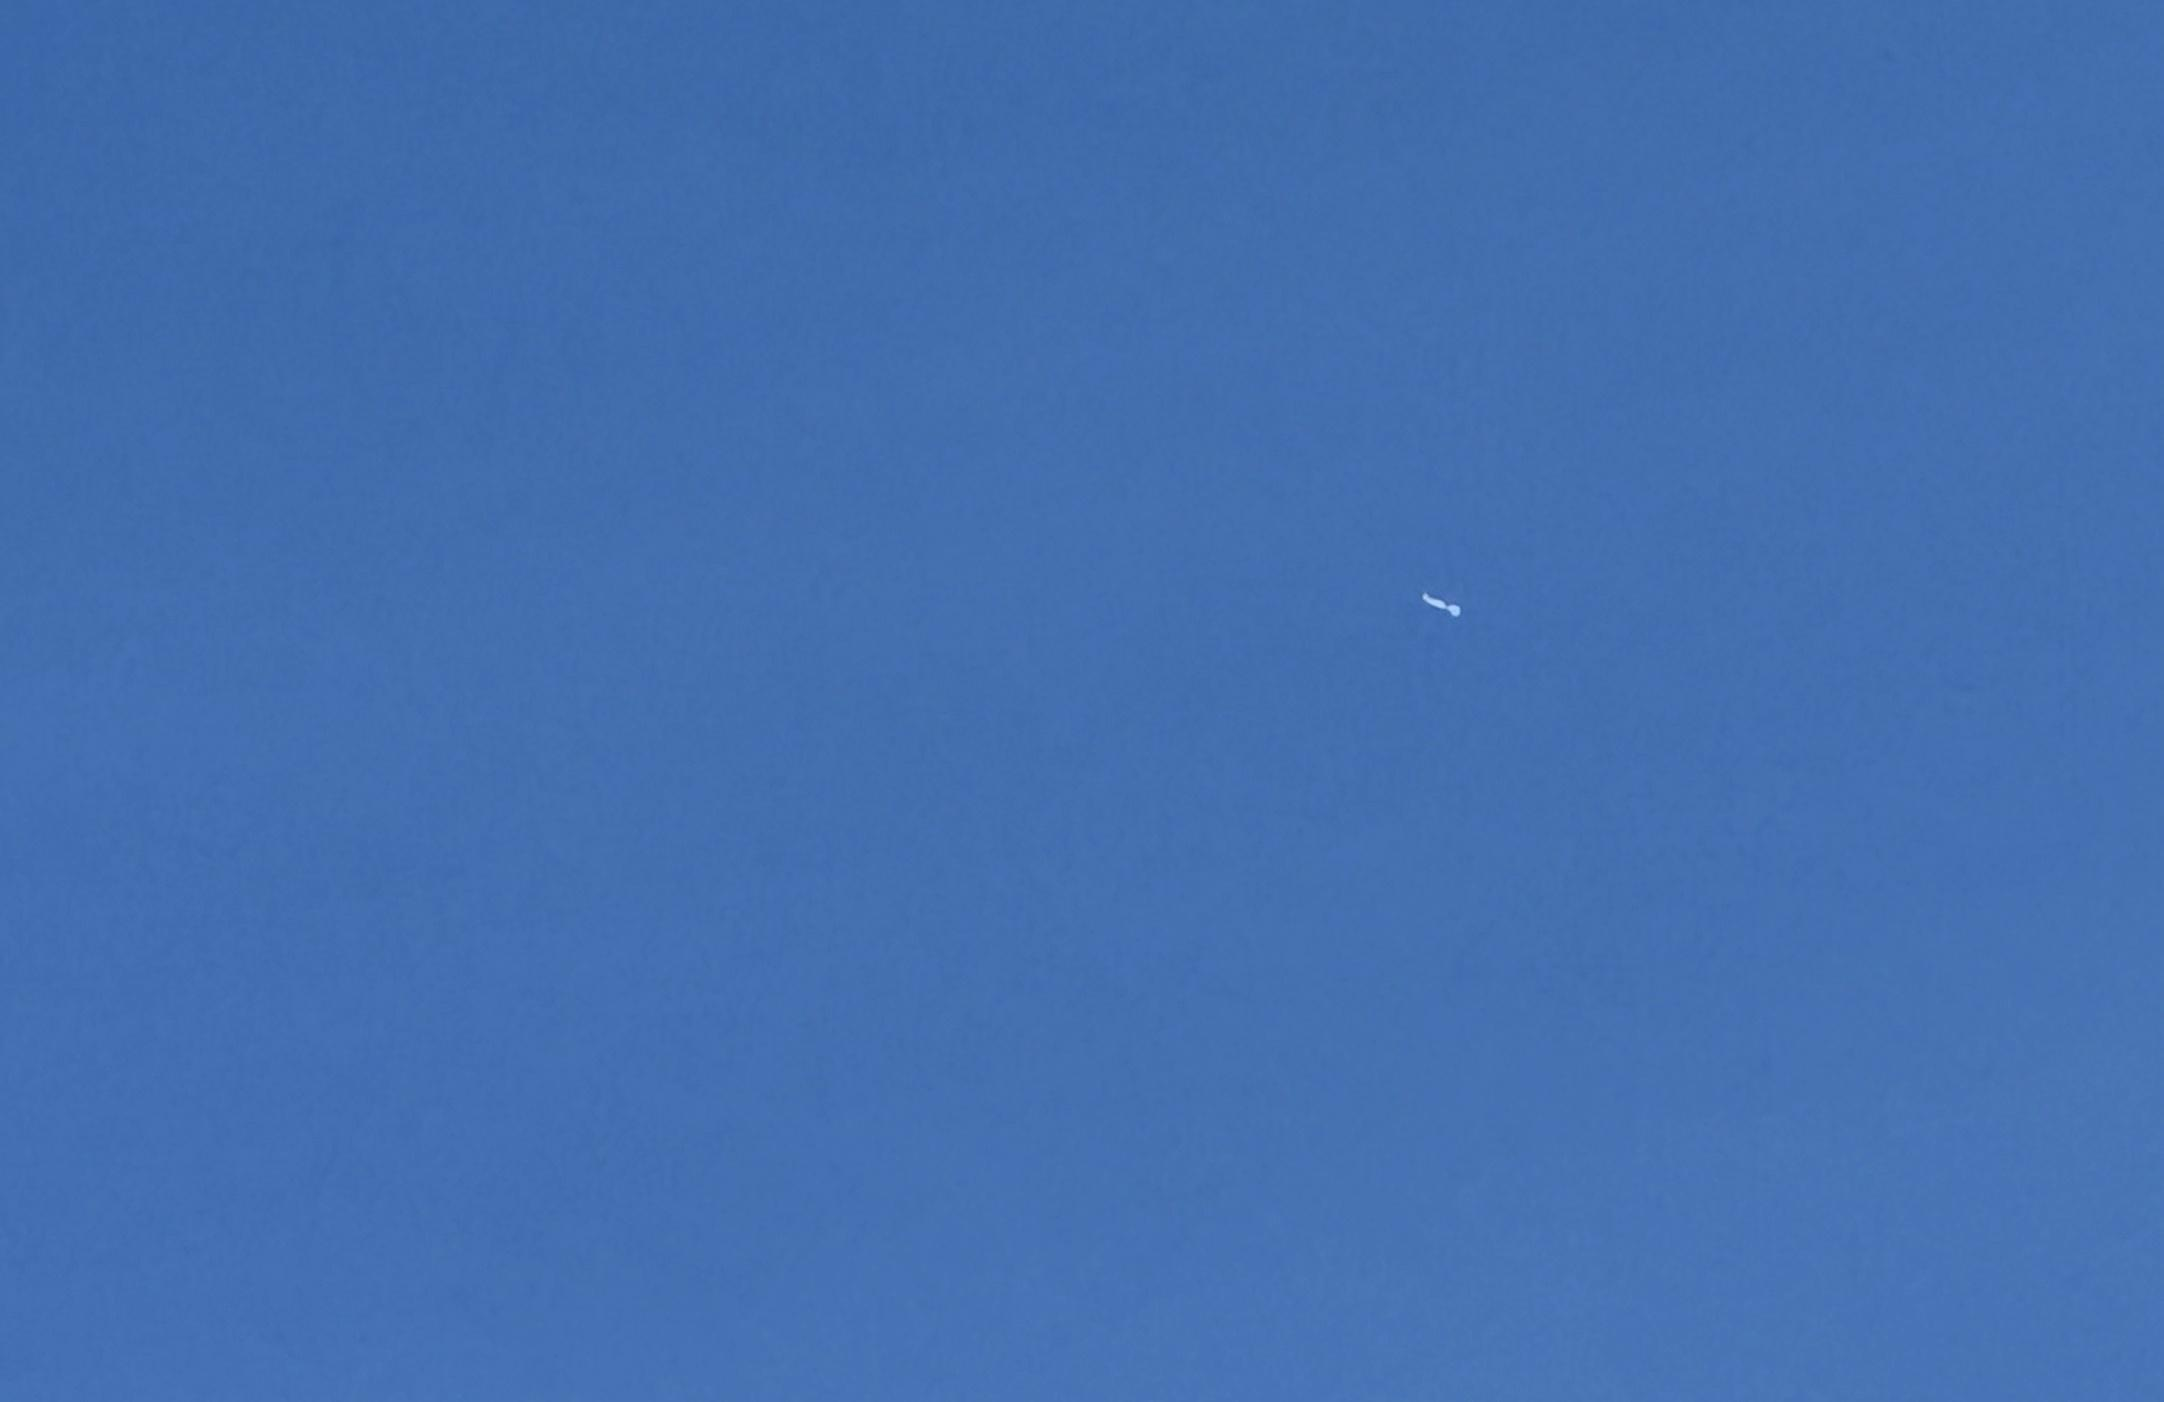Plane: (1375, 541, 1511, 639)
